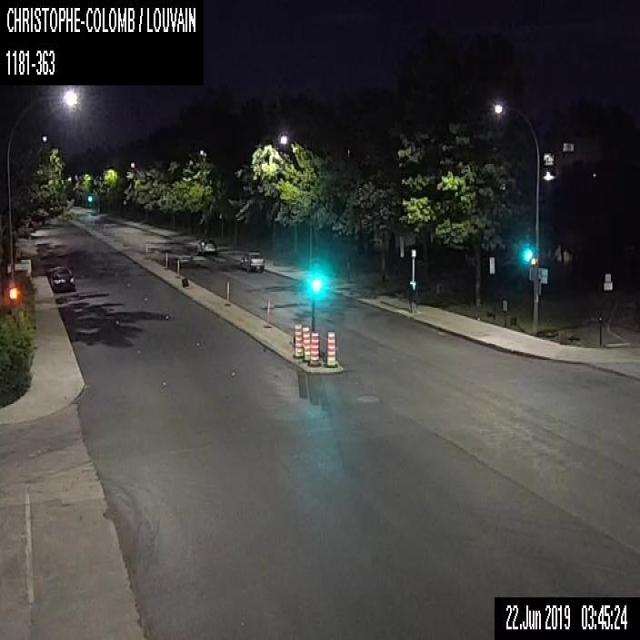construction: (324, 328, 337, 367), (307, 330, 320, 366), (292, 323, 303, 357), (301, 326, 310, 362)
vehicle: (48, 262, 74, 292), (238, 248, 264, 272), (195, 236, 217, 255)
